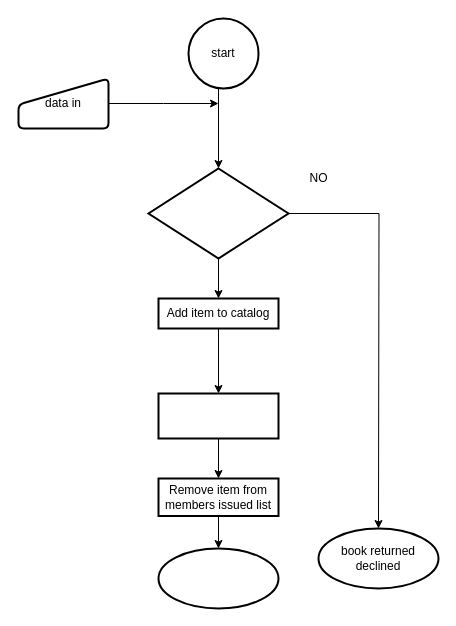
Some shapes in this 456 by 626 pixel diagram are drawn without their labels. The centre of each missing label's shape, as x and y in pixels:
book returned successfully: the point at 218,578
increase the count of book items: the point at 218,415
is returned book item issued by member: the point at 218,213
